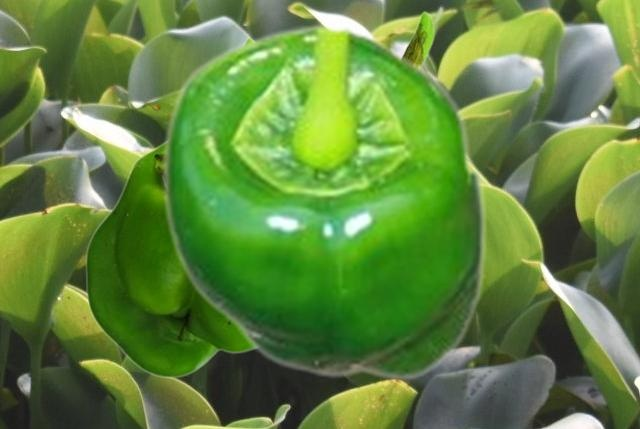bell_pepper: (159, 22, 487, 380), (84, 36, 254, 377), (402, 10, 435, 65)
